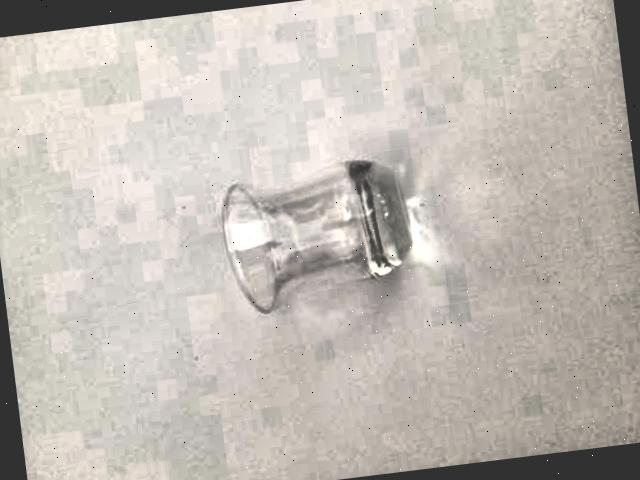Almennt: (172, 118, 459, 343)
